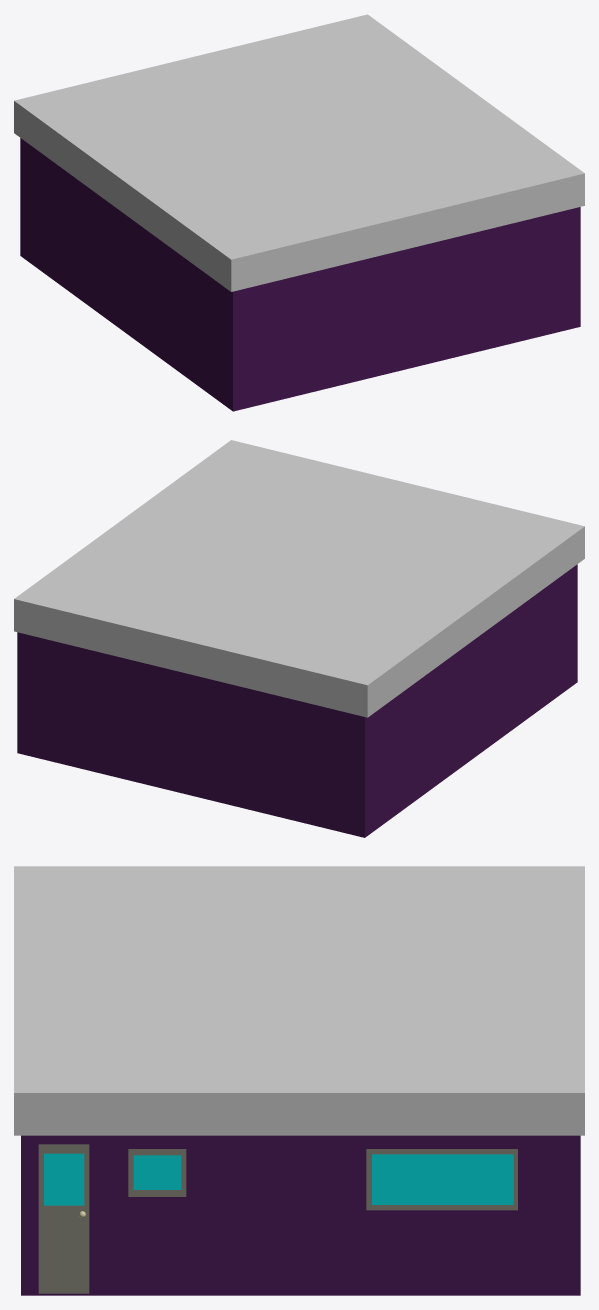
The model's file is house15.fbx.
3 renders of one model, top to bottom at view 1: azimuth 30°, elevation 25°; view 2: azimuth 150°, elevation 25°; view 3: azimuth 270°, elevation 25°, orthographic. The views are drawn at different scales.
Parts seen in each view (by area): view 1: house15; view 2: house15; view 3: house15.
Boxes of the visible parts, x1,y1,x2,y2 form: house15: (14,14,584,411); house15: (14,440,584,837); house15: (14,866,584,1295).
Bounding box in the file's own units: 295 × 123 × 312.
